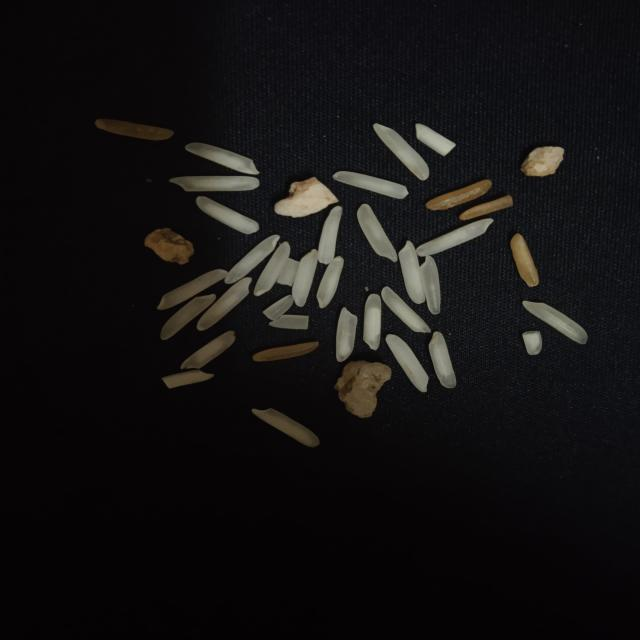Broken: (196, 196, 260, 234), (333, 171, 410, 199), (426, 180, 493, 209), (95, 118, 175, 142), (416, 123, 458, 157), (522, 147, 566, 178), (253, 342, 319, 362), (161, 369, 214, 389), (270, 314, 309, 329), (523, 331, 542, 356)
Full: (372, 122, 429, 180), (198, 278, 254, 332), (157, 269, 230, 310), (414, 217, 492, 255), (251, 408, 320, 448), (224, 236, 278, 287), (524, 301, 588, 344), (159, 294, 216, 340), (386, 332, 428, 392), (185, 143, 260, 176), (356, 204, 397, 263), (382, 286, 432, 334), (181, 330, 237, 370), (255, 242, 293, 297), (398, 240, 424, 304), (429, 331, 457, 389), (168, 175, 261, 192), (510, 233, 539, 287), (316, 256, 344, 308), (292, 249, 317, 307), (317, 205, 342, 262), (460, 196, 514, 222), (420, 256, 441, 316), (336, 307, 358, 361), (364, 292, 382, 350), (264, 296, 295, 322)
